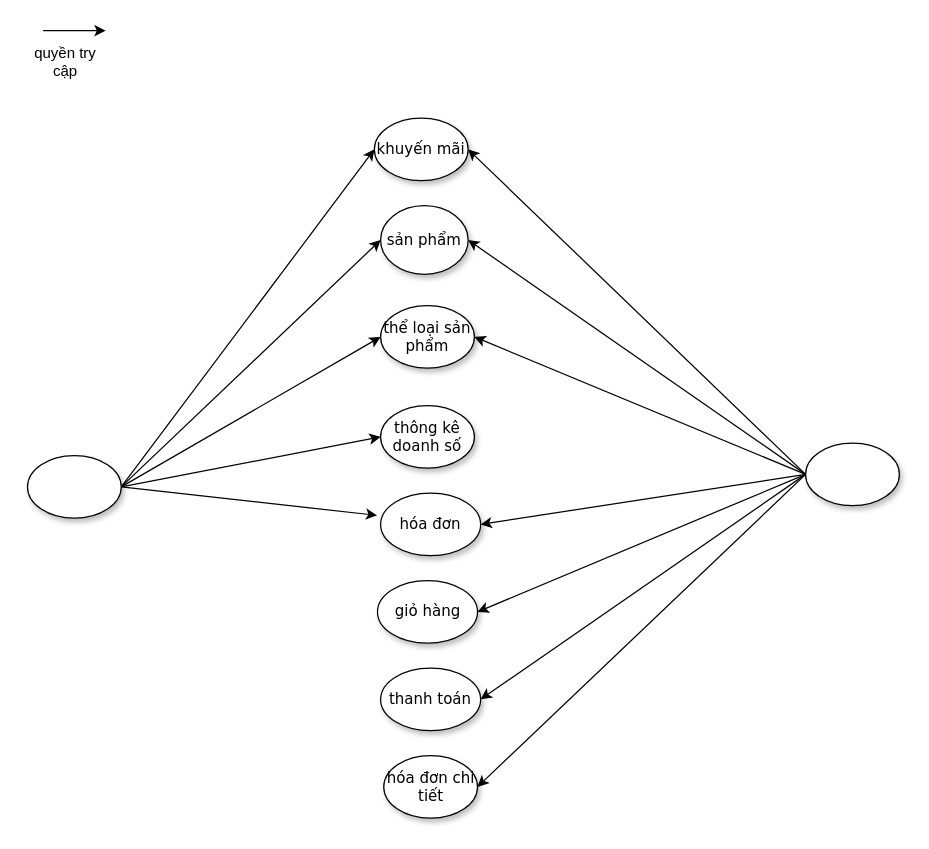
This 929x849 diagram has some shape labels left out. The shapes that lost their labels are listed below. From the top down, each one's centre as x and y in pixels, then its label:
(x=75, y=488): Quản lí
(x=853, y=475): người dùng
